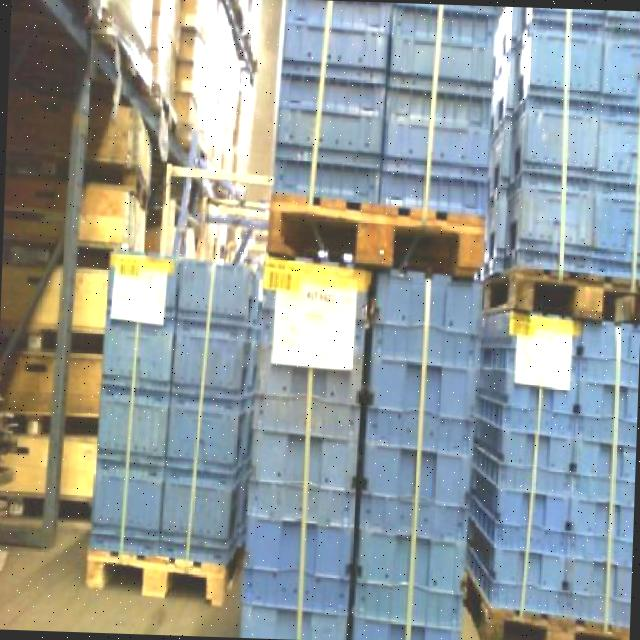pallet: (257, 177, 495, 288), (474, 256, 640, 338), (451, 564, 628, 640), (78, 529, 231, 613)
